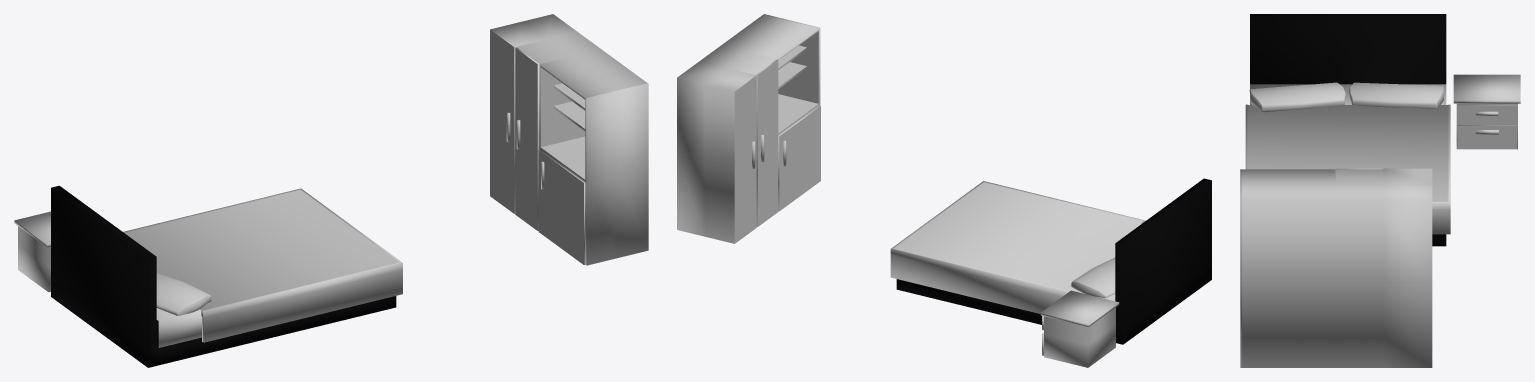
The model's file is Bedroom.fbx.
The picture shows the model from 3 angles, left to right: view 1: azimuth 30°, elevation 25°; view 2: azimuth 150°, elevation 25°; view 3: azimuth 270°, elevation 25°; orthographic projection. The views are drawn at different scales.
Parts seen in each view (by area): view 1: Closet, Cover, Bed, NigthStand, Pillows, Shelves; view 2: Closet, Cover, Bed, NigthStand, Pillows, Shelves; view 3: Closet, Bed, Cover, NigthStand, Pillows.
Boxes of the visible parts, left/top/right/bottom form: Closet: left=490, top=14, right=648, bottom=265; Cover: left=123, top=188, right=402, bottom=342; Bed: left=51, top=185, right=396, bottom=367; NigthStand: left=14, top=211, right=50, bottom=292; Pillows: left=156, top=272, right=211, bottom=315; Shelves: left=553, top=83, right=585, bottom=130; Closet: left=677, top=14, right=820, bottom=243; Cover: left=890, top=181, right=1145, bottom=313; Bed: left=896, top=178, right=1211, bottom=344; NigthStand: left=1040, top=290, right=1119, bottom=367; Pillows: left=1071, top=220, right=1146, bottom=298; Shelves: left=778, top=45, right=806, bottom=88; Closet: left=1240, top=168, right=1432, bottom=367; Bed: left=1250, top=14, right=1446, bottom=246; Cover: left=1245, top=104, right=1450, bottom=234; NigthStand: left=1453, top=74, right=1520, bottom=149; Pillows: left=1249, top=82, right=1443, bottom=112.
Bounding box in the file's own units: 660 × 212 × 321.
